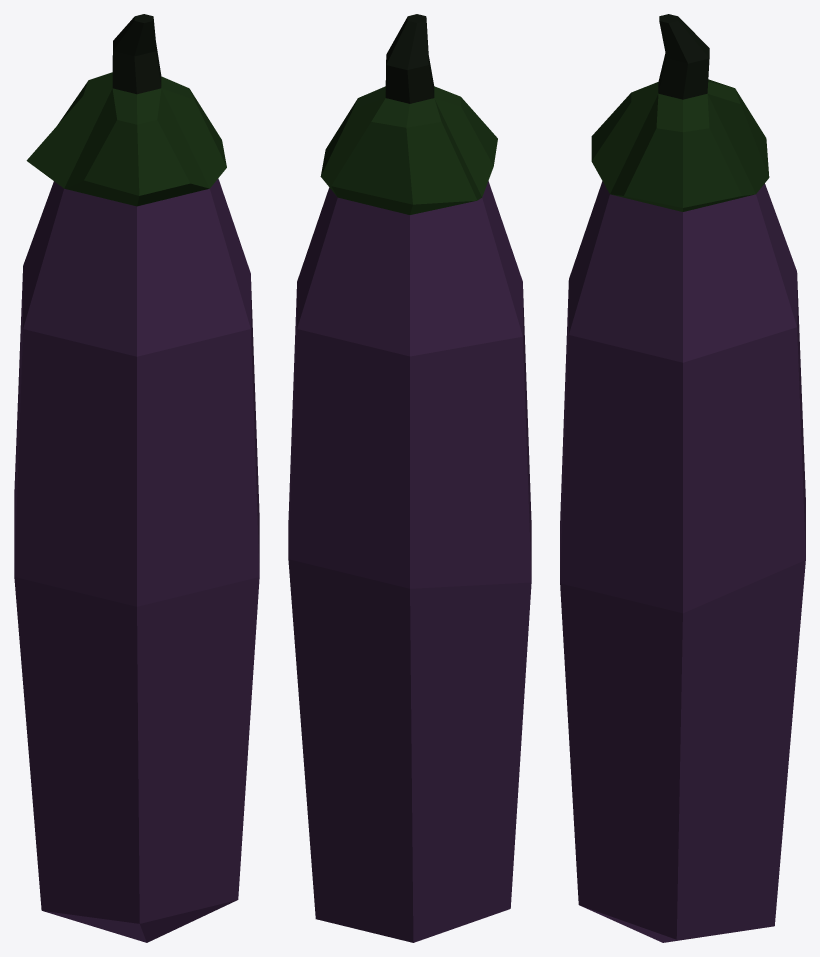
3 views of the same model, side by side, from view 1: azimuth 30°, elevation 25°; view 2: azimuth 150°, elevation 25°; view 3: azimuth 270°, elevation 25° (orthographic).
Parts seen in each view (by area): view 1: 茄子_pCylinder2; view 2: 茄子_pCylinder2; view 3: 茄子_pCylinder2.
Part boxes in pixels (box(x1,y1,x2,y2)): 茄子_pCylinder2: box(14, 14, 259, 942); 茄子_pCylinder2: box(288, 14, 531, 942); 茄子_pCylinder2: box(560, 14, 805, 942).
Size of the model in its own units: 2.22 by 1.92 by 7.98.
